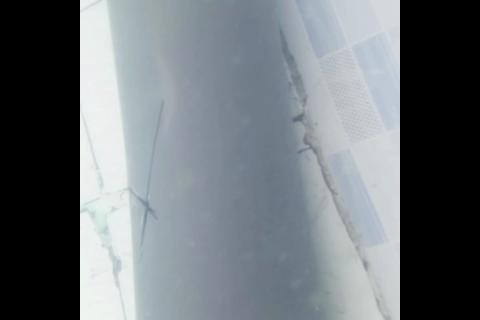keretakan: (130, 99, 166, 263)
